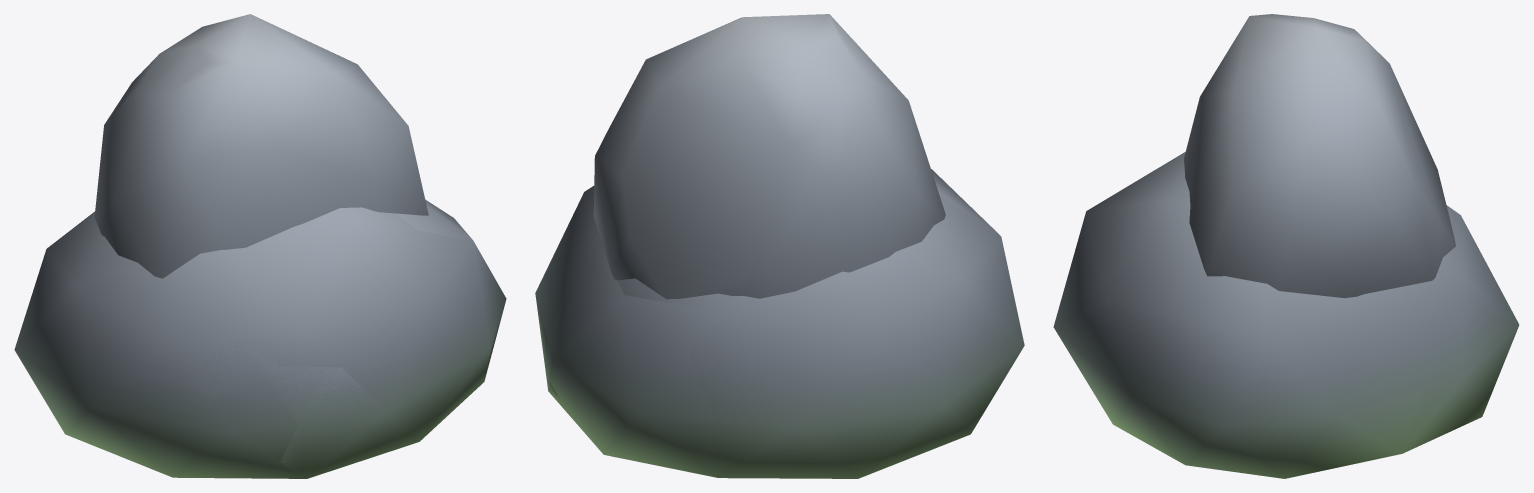
File: Rocks.fbx
3 views of the same model, side by side, from view 1: azimuth 30°, elevation 25°; view 2: azimuth 150°, elevation 25°; view 3: azimuth 270°, elevation 25° (orthographic). The views are drawn at different scales.
Parts seen in each view (by area): view 1: Rock01, Rocks03, Rock02; view 2: Rock01, Rocks03, Rock02; view 3: Rock01, Rocks03, Rock02.
Part boxes in pixels (x1,y1,x2,y2): Rock01: [14, 199, 506, 478]; Rocks03: [94, 14, 428, 278]; Rock02: [75, 206, 486, 478]; Rock01: [535, 169, 1024, 478]; Rocks03: [593, 14, 945, 299]; Rock02: [535, 196, 999, 477]; Rock01: [1053, 152, 1519, 478]; Rocks03: [1184, 14, 1455, 298]; Rock02: [1054, 213, 1460, 453].
Size of the model in its own units: 1.64 by 1.49 by 1.59.
